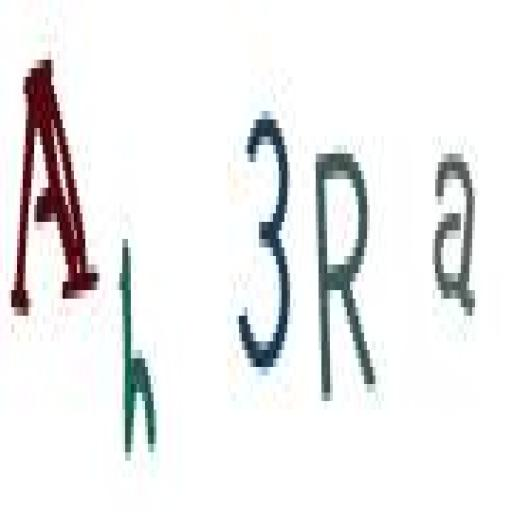3: (233, 90, 299, 386)
A: (12, 47, 102, 328)
R: (310, 140, 383, 414)
a: (429, 136, 481, 328)
h: (114, 233, 162, 465)
